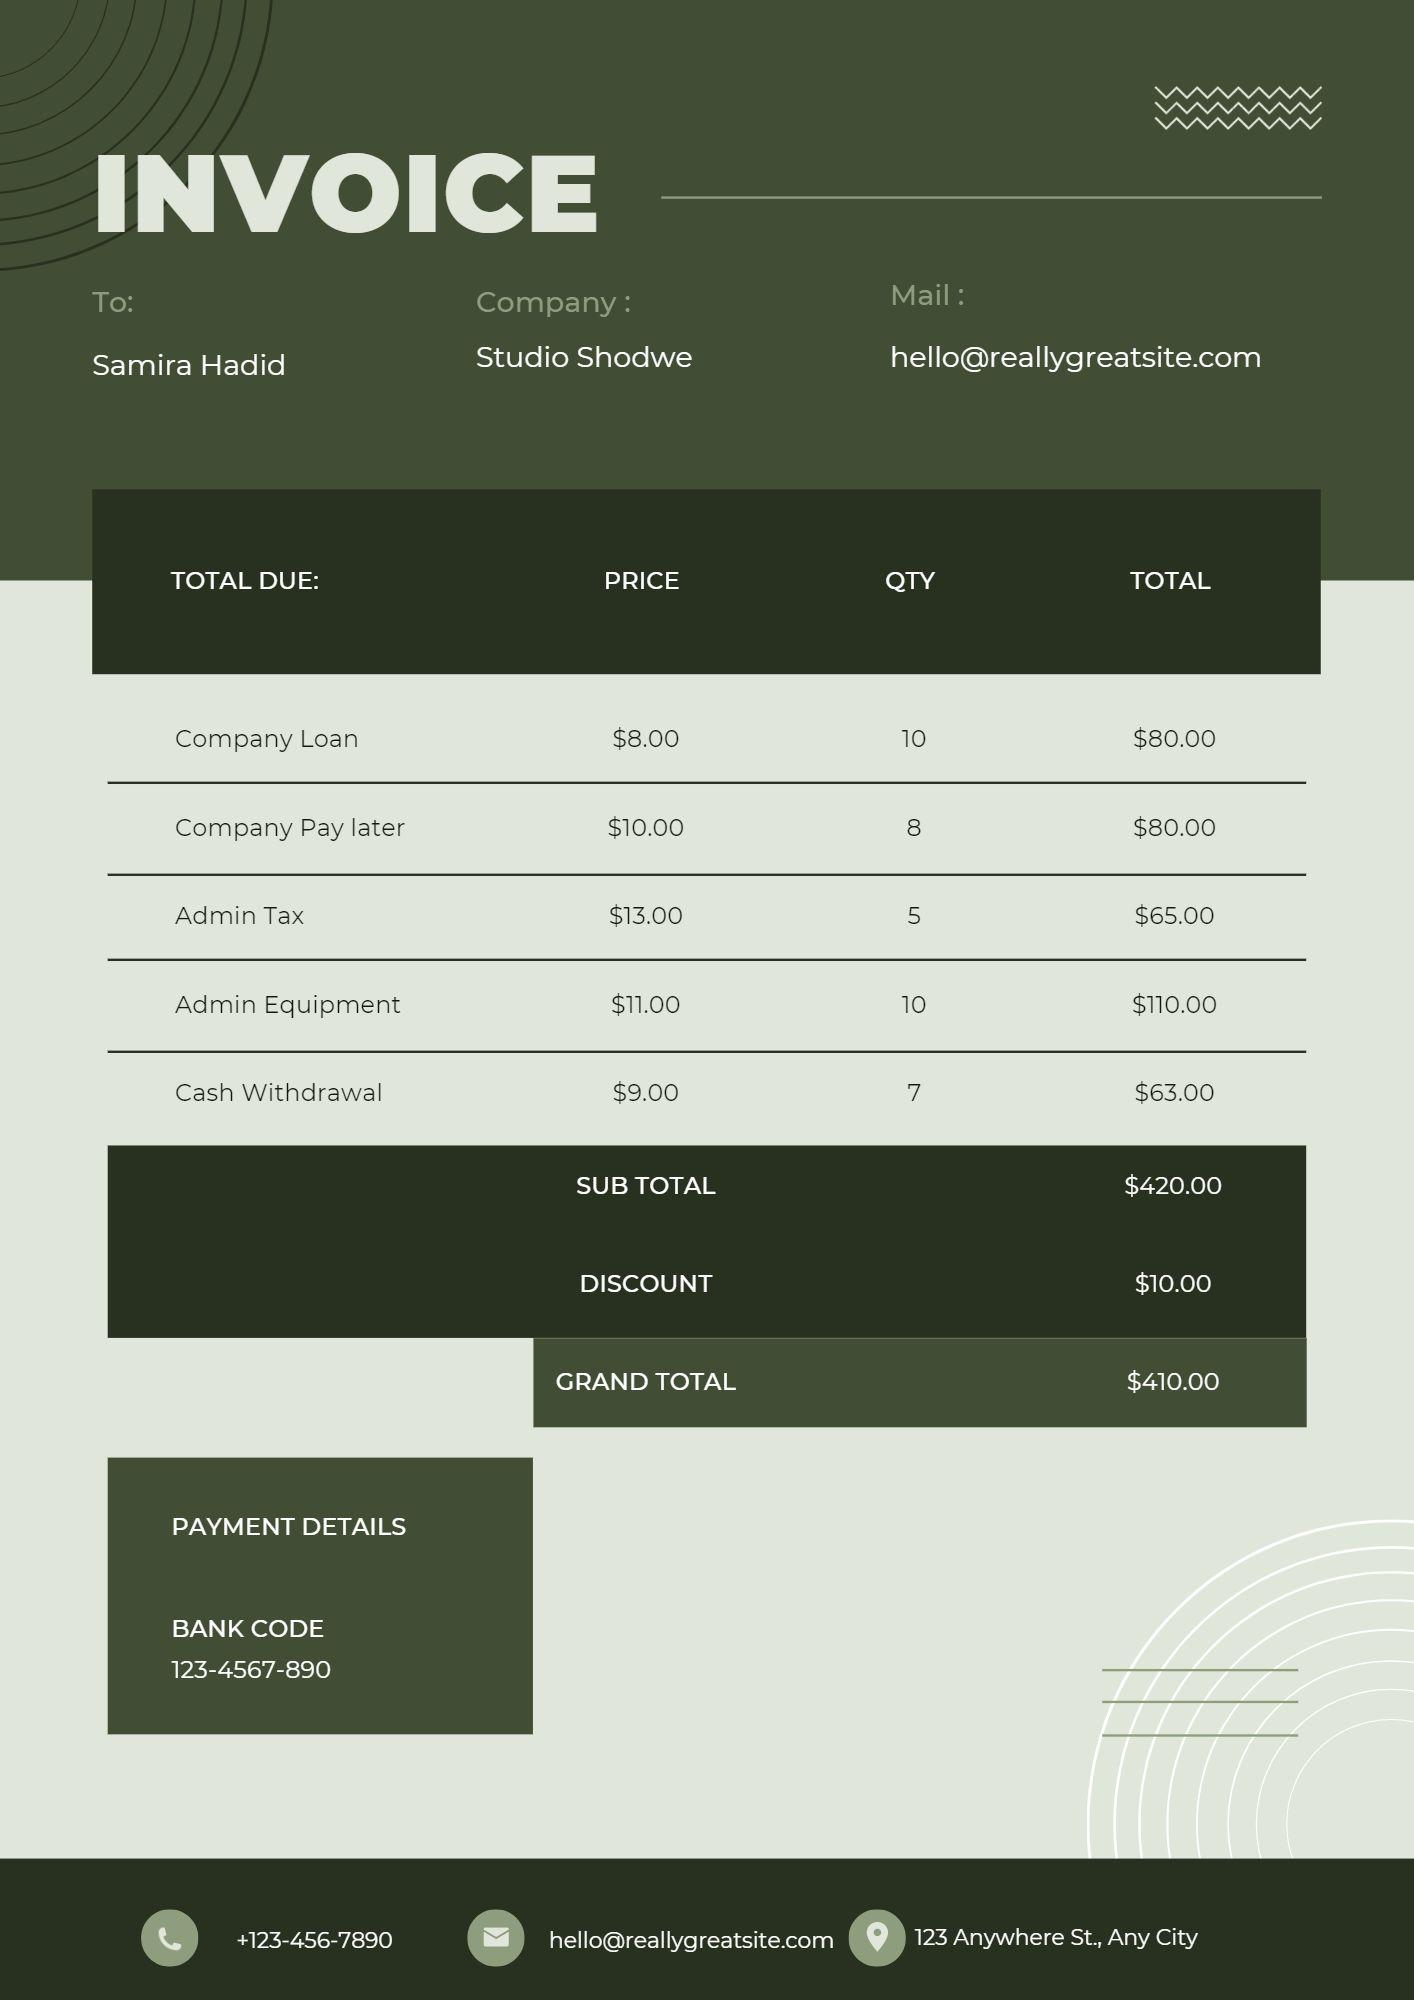ROI: (148, 529, 1292, 1154)
